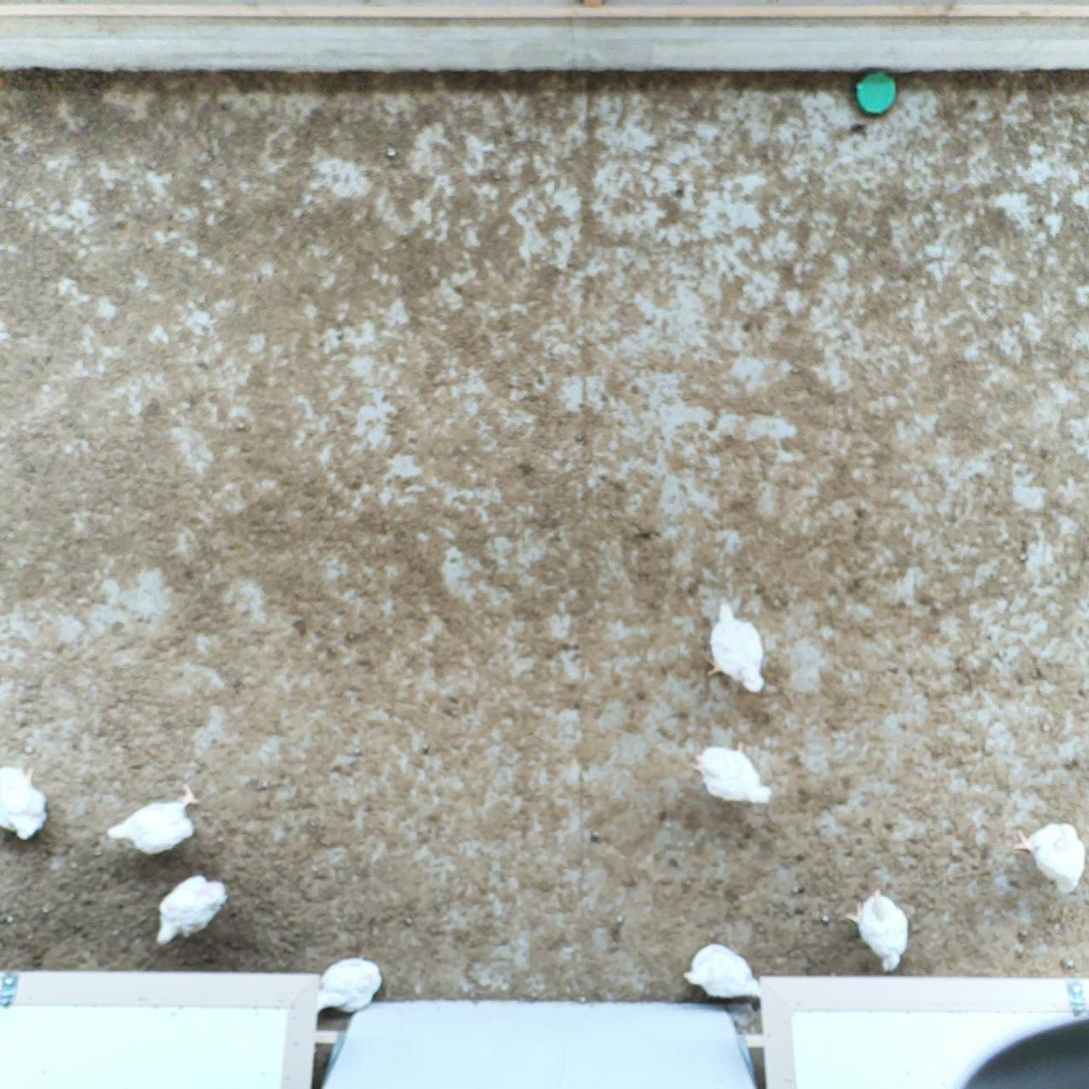chicken: (103, 782, 200, 858), (701, 597, 769, 696), (843, 883, 910, 975), (1011, 821, 1088, 900), (154, 872, 230, 952), (688, 740, 774, 808), (682, 941, 764, 1008), (305, 954, 385, 1022), (0, 764, 50, 842)
